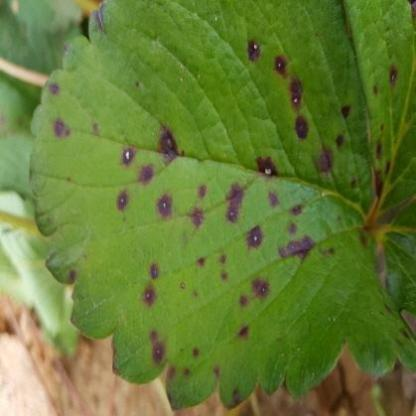Strawberry_Leaf_Spot: (28, 0, 415, 412), (342, 0, 416, 221)
